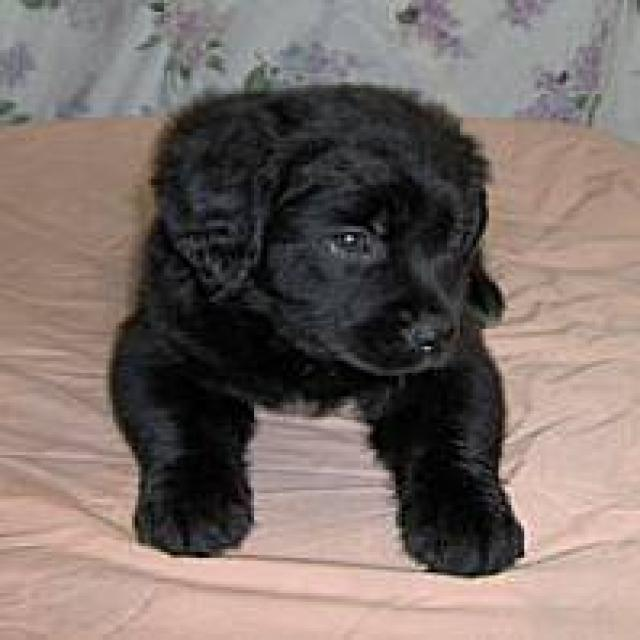dogs: (119, 72, 539, 589)
